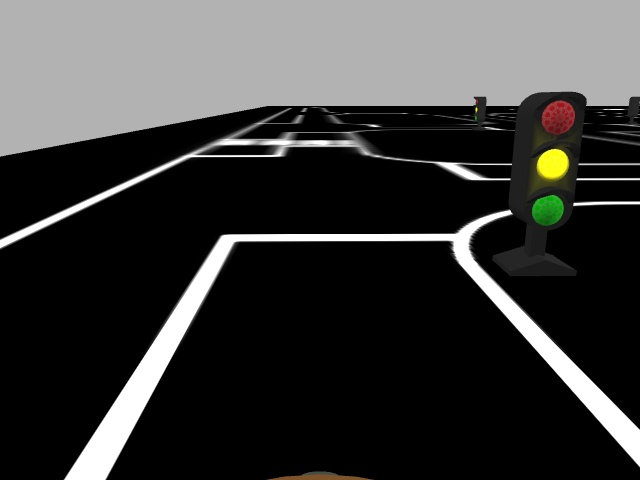yellow_light: (515, 90, 586, 229)
